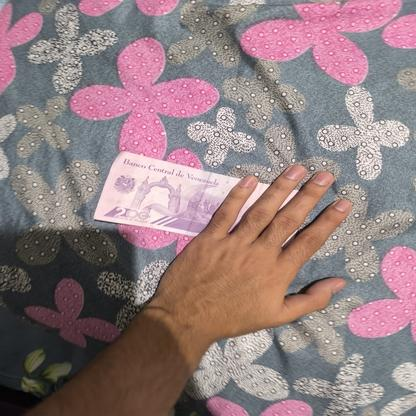one_hundred-back-vef: (92, 150, 300, 249)
